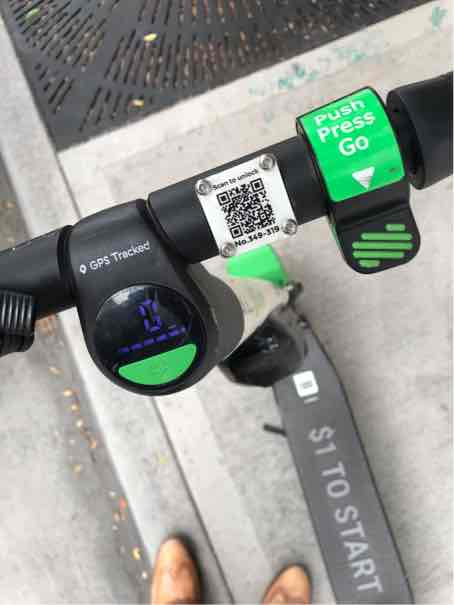scooter: (72, 91, 444, 603)
